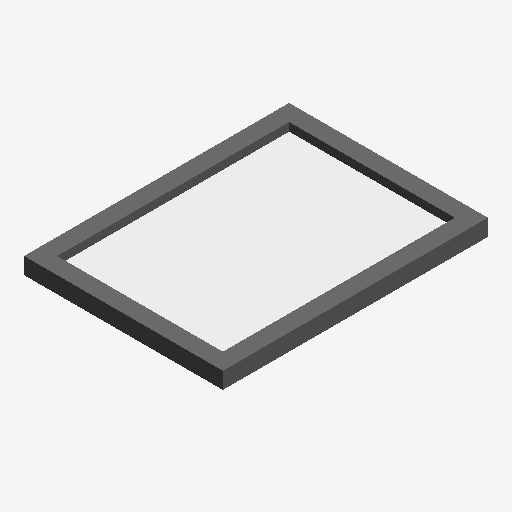
A Minecraft block model of 5 cuboids, rendered isometrically (azimuth 45°, elevation 35.3°) with the resource pack's own textures.
Visible parts, largest first — element 1, element 4, element 5, element 3, element 2.
Boxes of the visible parts, x1,y1,x2,y2 form: element 1: [66, 132, 446, 350]; element 4: [206, 208, 487, 389]; element 5: [24, 103, 305, 284]; element 3: [41, 256, 222, 379]; element 2: [289, 113, 470, 221].
Bounding box in the file's own units: 16 × 2 × 12.